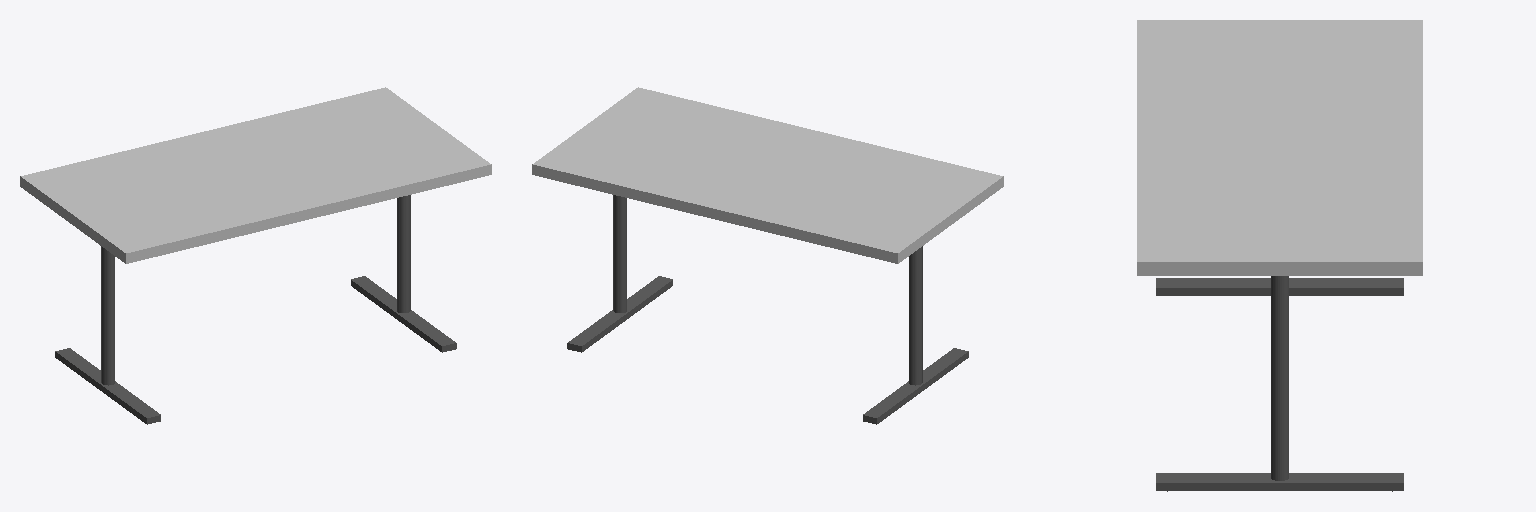
robot.urdf — conference_table:
<robot name="conference_table">
  <link name="base_link">
    <!-- Tabletop -->
    <collision>
      <origin xyz="0 0 0.714"/>
      <geometry>
        <box size="1.52 0.76 0.042"/>
      </geometry>
    </collision>
    <visual>
      <origin xyz="0 0 0.714"/>
      <geometry>
        <box size="1.52 0.76 0.042"/>
      </geometry>
      <material name="gray">
        <color rgba="0.8 0.8 0.8 1.0"/>
      </material>
    </visual>
    <!-- Table Legs -->
    <collision>
      <origin xyz="0.61375 0 0.364"/>
      <geometry>
        <cylinder radius="0.025" length="0.658"/>
      </geometry>
    </collision>
    <collision>
      <origin xyz="-0.61375 0 0.364"/>
      <geometry>
        <cylinder radius="0.025" length="0.658"/>
      </geometry>
    </collision>
    <visual>
      <origin xyz="0.61375 0 0.364"/>
      <geometry>
        <cylinder radius="0.025" length="0.658"/>
      </geometry>
      <material name="dark_gray">
        <color rgba="0.4 0.4 0.4 1.0"/>
      </material>
    </visual>
    <visual>
      <origin xyz="-0.61375 0 0.364"/>
      <geometry>
        <cylinder radius="0.025" length="0.658"/>
      </geometry>
      <material name="dark_gray">
        <color rgba="0.4 0.4 0.4 1.0"/>
      </material>
    </visual>
    <!-- Left table foot -->
    <collision>
      <origin xyz="0.61375 0 0.02"/>
      <geometry>
        <box size="0.06 0.66 0.025"/>
      </geometry>
    </collision>
    <collision>
      <origin xyz="0.61375 0.30 0.005"/>
      <geometry>
        <cylinder radius="0.015" length="0.01"/>
      </geometry>
    </collision>
    <collision>
      <origin xyz="0.61375 -0.30 0.005"/>
      <geometry>
        <cylinder radius="0.015" length="0.01"/>
      </geometry>
    </collision>
    <visual>
      <origin xyz="0.61375 0 0.02"/>
      <geometry>
        <box size="0.06 0.66 0.025"/>
      </geometry>
      <material name="dark_gray">
        <color rgba="0.4 0.4 0.4 1.0"/>
      </material>
    </visual>
    <visual>
      <origin xyz="0.61375 0.30 0.005"/>
      <geometry>
        <cylinder radius="0.015" length="0.01"/>
      </geometry>
      <material name="dark_gray">
        <color rgba="0.4 0.4 0.4 1.0"/>
      </material>
    </visual>
    <visual>
      <origin xyz="0.61375 -0.30 0.005"/>
      <geometry>
        <cylinder radius="0.015" length="0.01"/>
      </geometry>
      <material name="dark_gray">
        <color rgba="0.4 0.4 0.4 1.0"/>
      </material>
    </visual>
    <!-- Right table foot -->
    <collision>
      <origin xyz="-0.61375 0 0.02"/>
      <geometry>
        <box size="0.06 0.66 0.025"/>
      </geometry>
    </collision>
    <collision>
      <origin xyz="-0.61375 0.30 0.005"/>
      <geometry>
        <cylinder radius="0.015" length="0.01"/>
      </geometry>
    </collision>
    <collision>
      <origin xyz="-0.61375 -0.30 0.005"/>
      <geometry>
        <cylinder radius="0.015" length="0.01"/>
      </geometry>
    </collision>
    <visual>
      <origin xyz="-0.61375 0 0.02"/>
      <geometry>
        <box size="0.06 0.66 0.025"/>
      </geometry>
      <material name="dark_gray">
        <color rgba="0.4 0.4 0.4 1.0"/>
      </material>
    </visual>
    <visual>
      <origin xyz="-0.61375 0.30 0.005"/>
      <geometry>
        <cylinder radius="0.015" length="0.01"/>
      </geometry>
      <material name="dark_gray">
        <color rgba="0.4 0.4 0.4 1.0"/>
      </material>
    </visual>
    <visual>
      <origin xyz="-0.61375 -0.30 0.005"/>
      <geometry>
        <cylinder radius="0.015" length="0.01"/>
      </geometry>
      <material name="dark_gray">
        <color rgba="0.4 0.4 0.4 1.0"/>
      </material>
    </visual>
  </link>
</robot>

--- Facts derived from the render (not from the file) ---
3 views of the same robot in one strip: view 1: azimuth 30°, elevation 25°; view 2: azimuth 150°, elevation 25°; view 3: azimuth 270°, elevation 25° (orthographic).
Model conference_table with 1 links and 0 joints (none), rooted at base_link, posed every joint at zero.
Visible links, largest first — view 1: base_link; view 2: base_link; view 3: base_link.
Link boxes in pixels (bbox=[...]): base_link: bbox=[20, 87, 491, 424]; base_link: bbox=[532, 87, 1003, 424]; base_link: bbox=[1137, 20, 1422, 491].
Size in the robot's own frame: 1.52 by 0.76 by 0.735 metres.
Geometry: primitives only (box / cylinder / sphere), no mesh files.